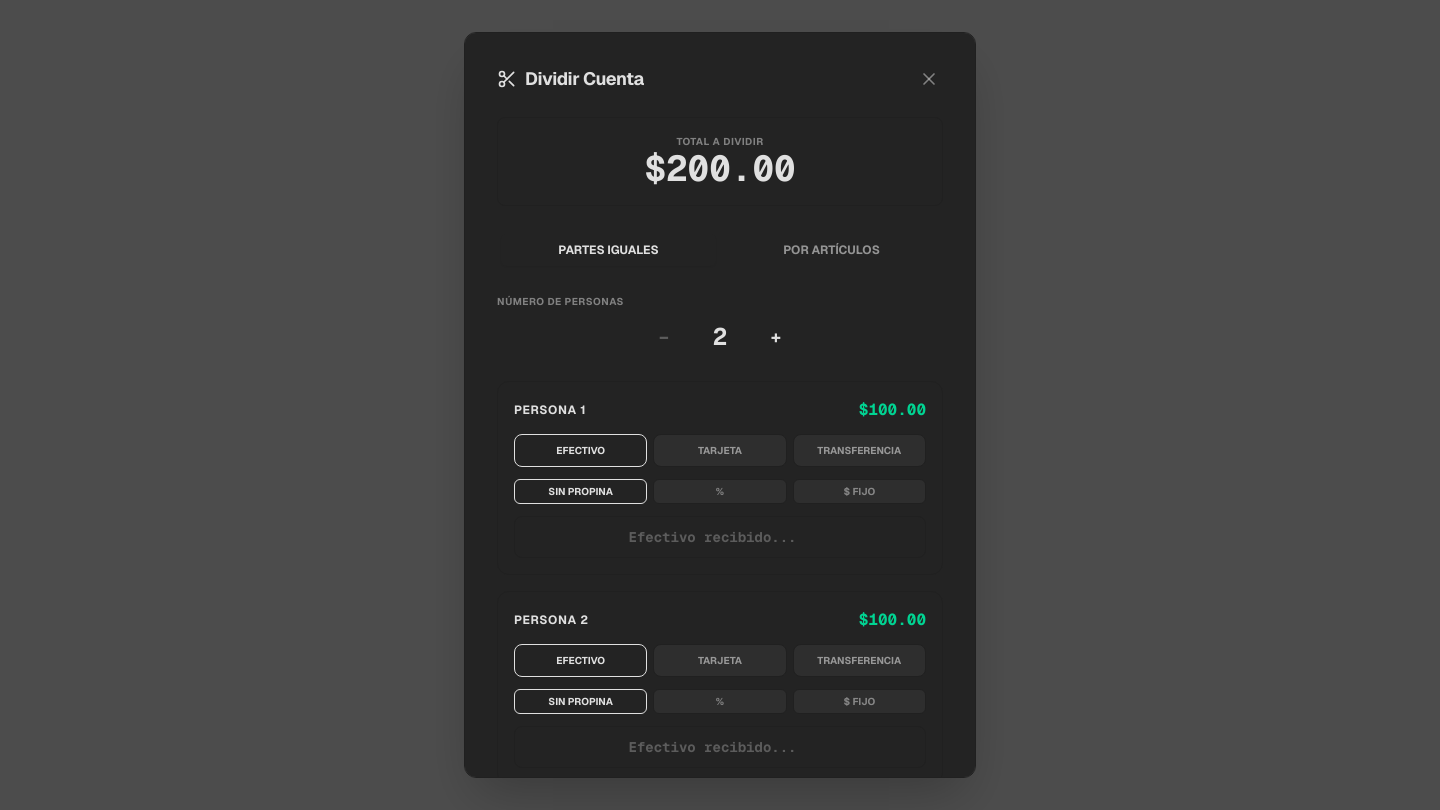
Test: SplitBillModal Component › shows terminal chips when multiple terminals exist and card is selected
This screenshot has width=1440, height=810.
# Switch person 1 to Tarjeta
Click the 1st button "Tarjeta". click: [720, 451]
box: top-left (653, 434), bottom-right (787, 467)
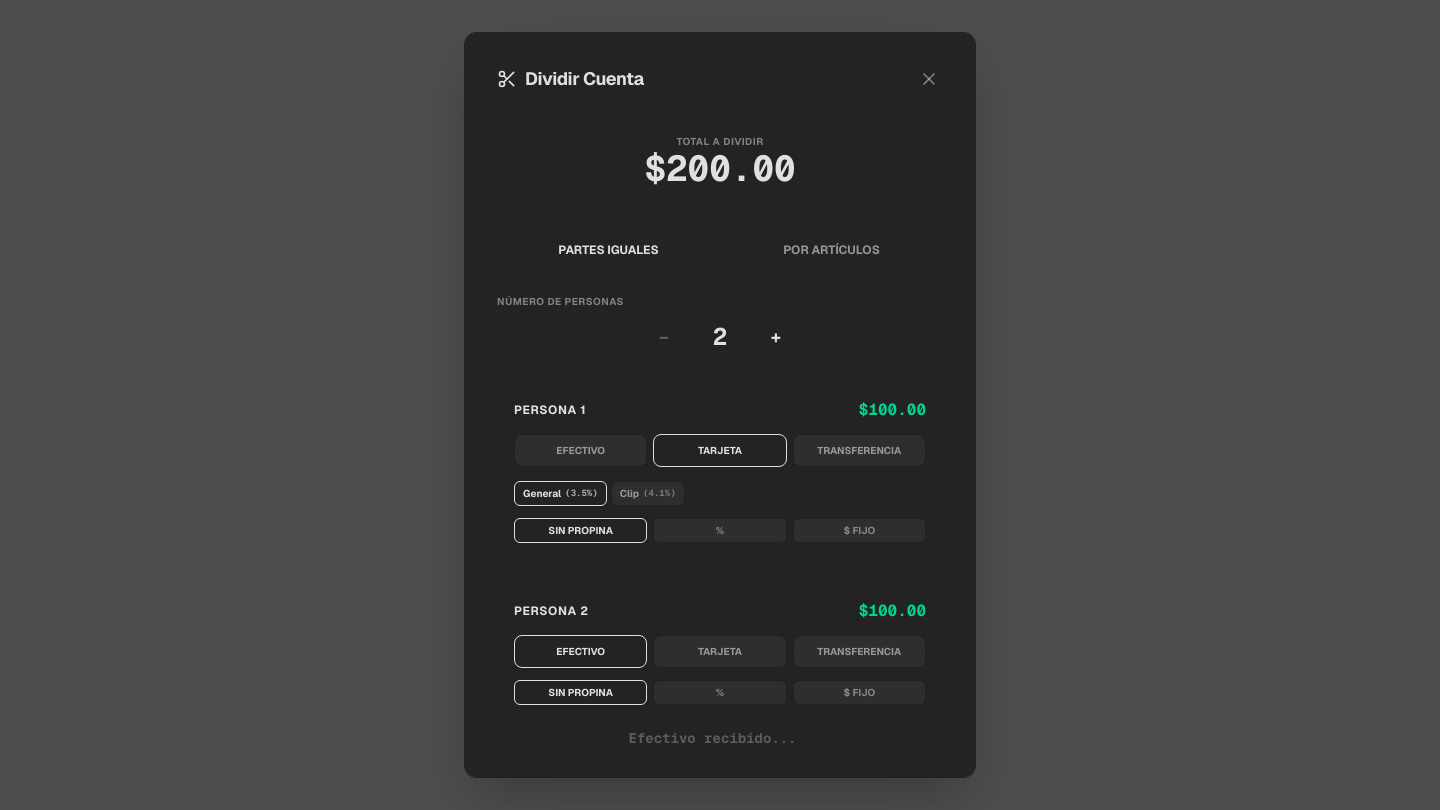
Expected: the text "General" is shown, top-left (523, 486), bottom-right (561, 501)
Expected: the text "Clip" is shown, top-left (620, 486), bottom-right (639, 501)
